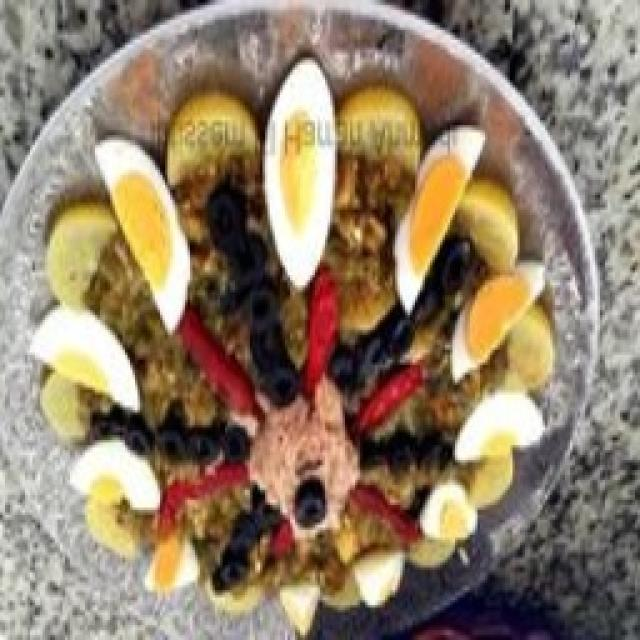Salade mechweya: (0, 0, 595, 632)
